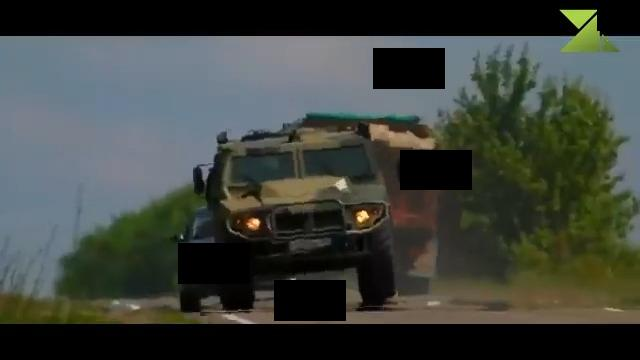MIL_HMMWV: (194, 121, 396, 314), (171, 202, 304, 312)
